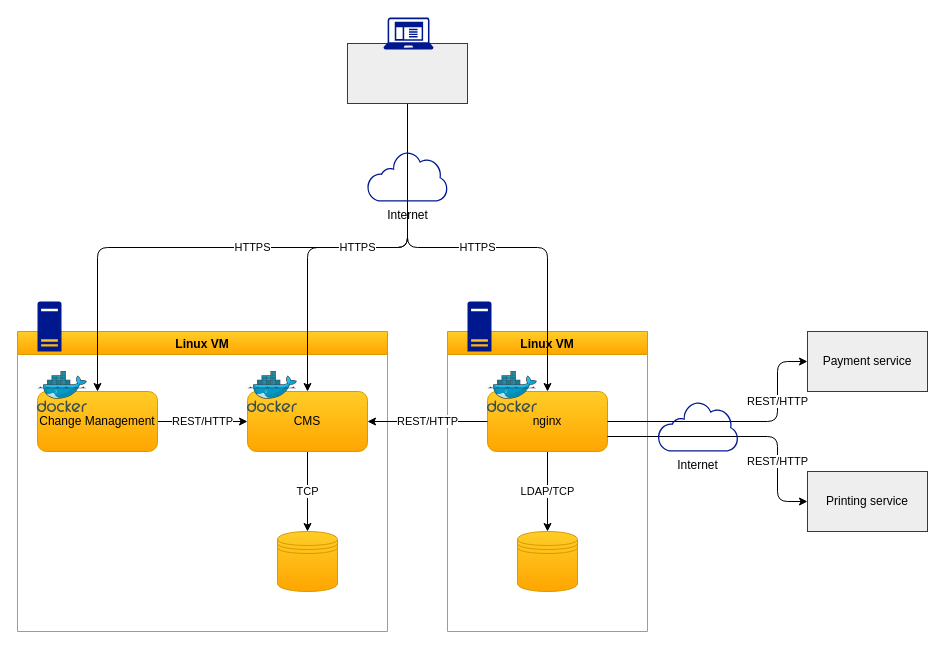
The diagram is 945 pixels wide and 649 high, and some of its shapes have lost their labels. Here are the shapes that lost their labels. From the top down, the centre of each, then its label:
the point at 407,73: Web Browser
the point at 307,561: MongoDB
the point at 547,561: Open LDAP
